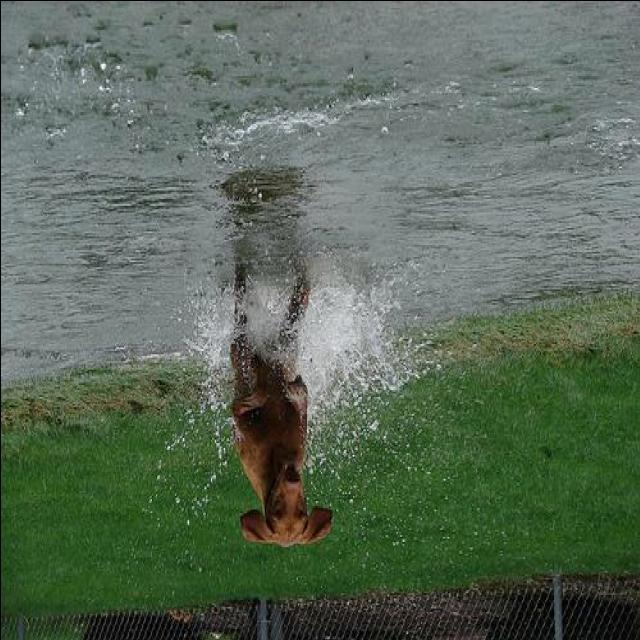vizsla: (226, 260, 336, 548)
